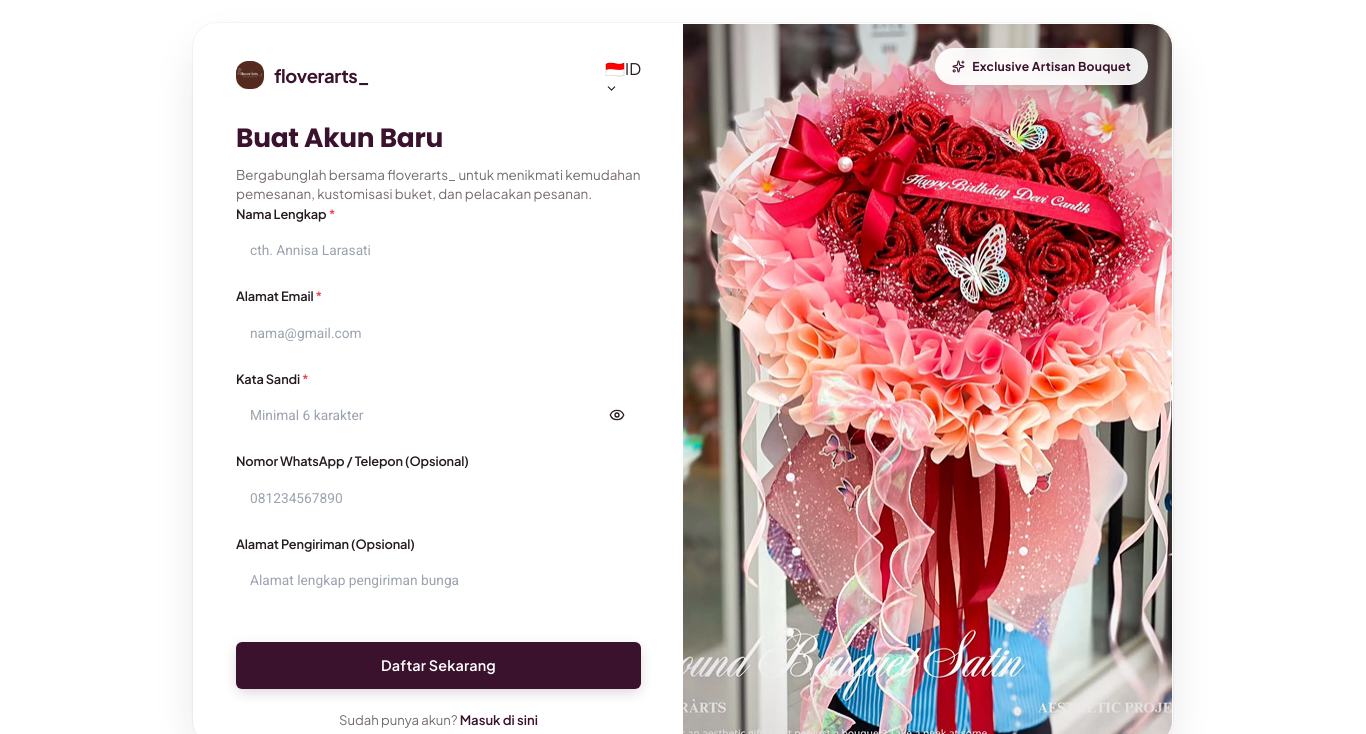
Test: RegisterForm Component › harus menampilkan pesan error jika registrasi gagal di server
The image size is (1366, 734).
Type "Budi Santoso" into the field labelled "Nama Lengkap *" at coordinates (438, 250), box [236,229,641,271]
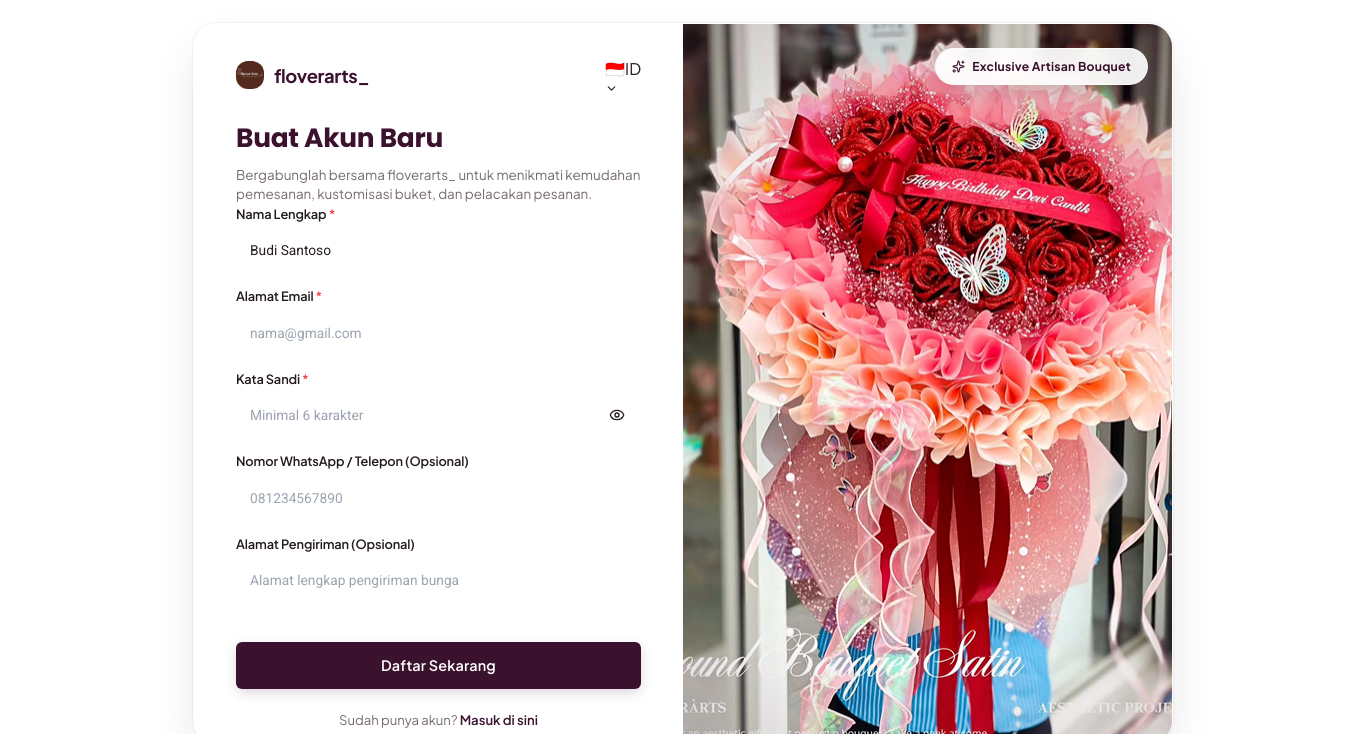
Type "budi@example.com" into the field labelled "Alamat Email *" at coordinates (438, 333), box [236,312,641,354]
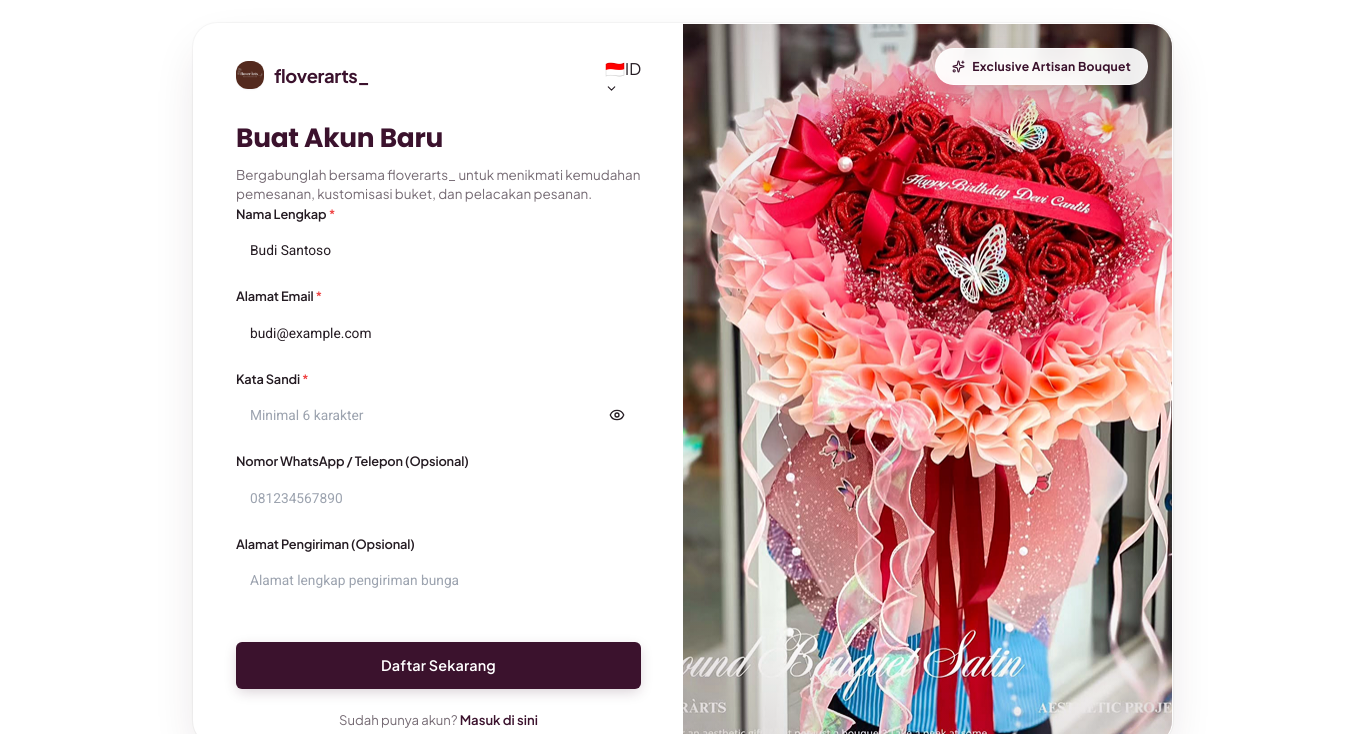
Type "password123" into the password field with placeholder "Minimal 6 karakter" at coordinates (438, 415), box [236,394,641,436]
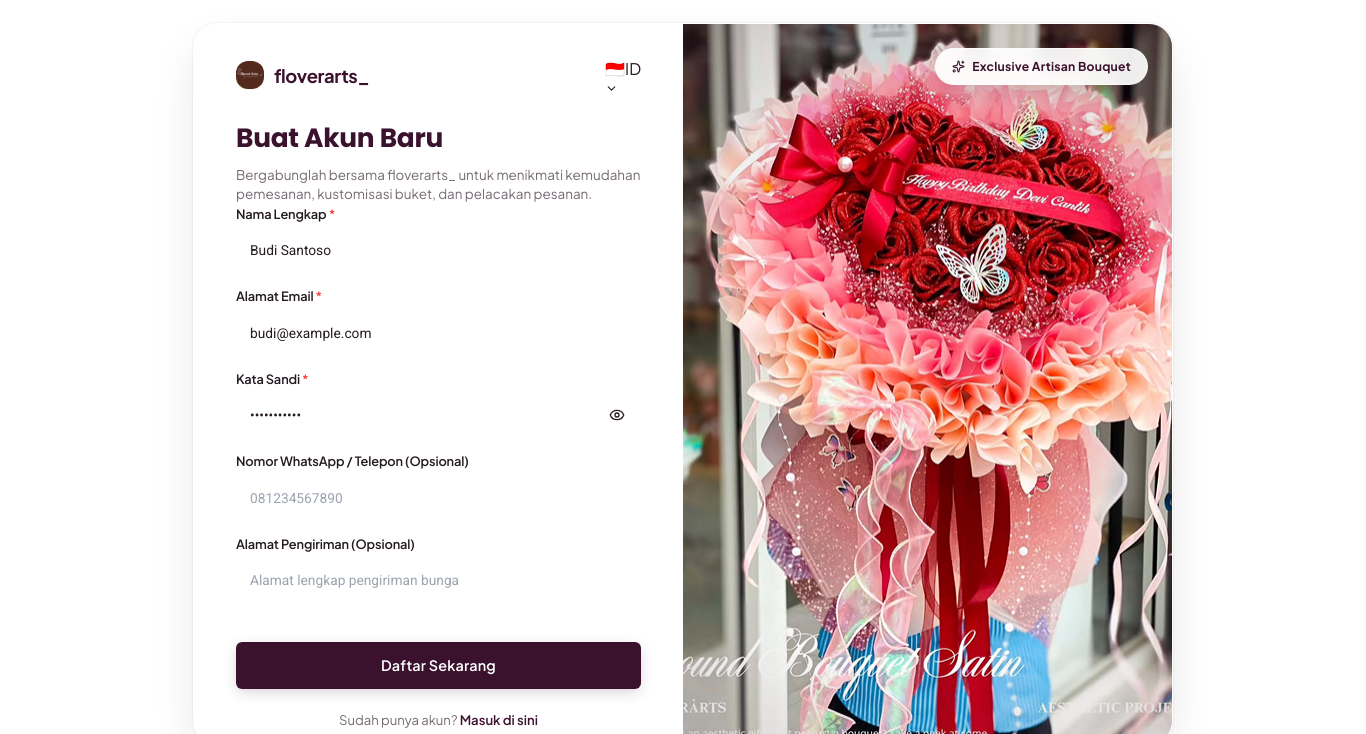
Click the button "Daftar Sekarang" at coordinates (438, 666), box [236,642,641,689]
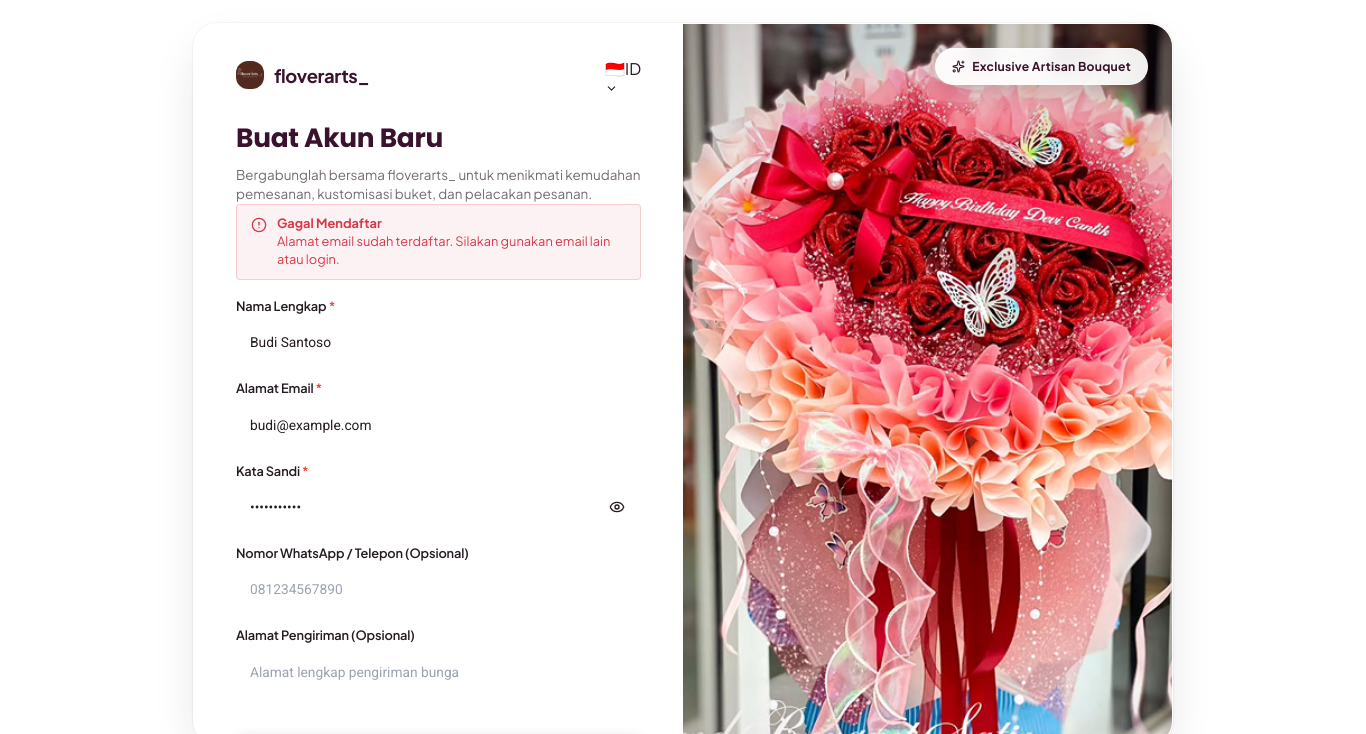
Check: the text "Alamat email sudah terdaftar. Silakan gunakan email lain atau login." is shown, box [277,233,626,269]
